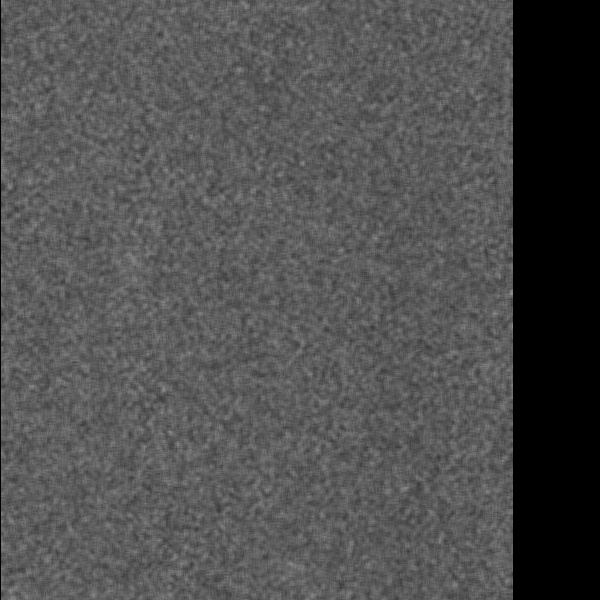spark: (210, 349, 249, 433)
